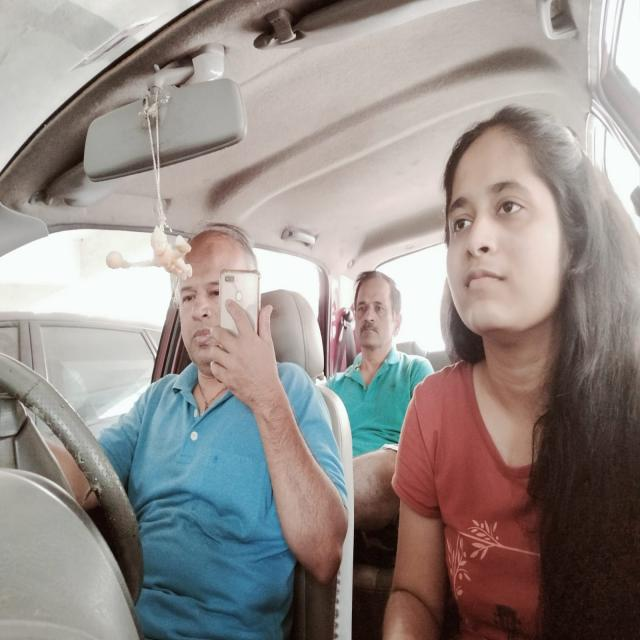mobile: (218, 263, 262, 393)
person: (443, 105, 609, 357), (170, 219, 270, 421), (348, 265, 408, 380)
